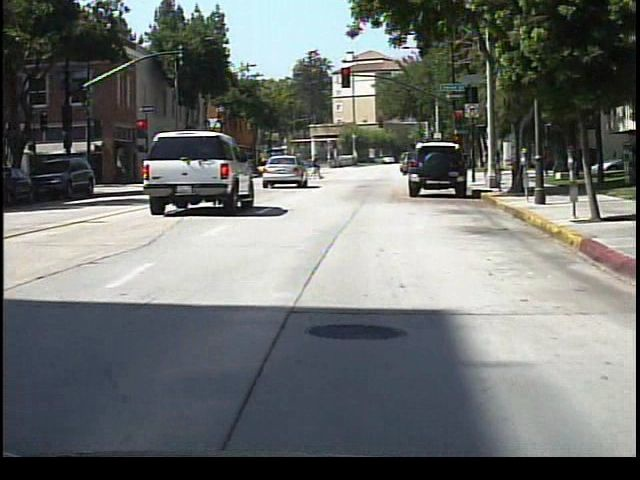person: (542, 141, 555, 182), (461, 153, 477, 183), (313, 155, 327, 184)
